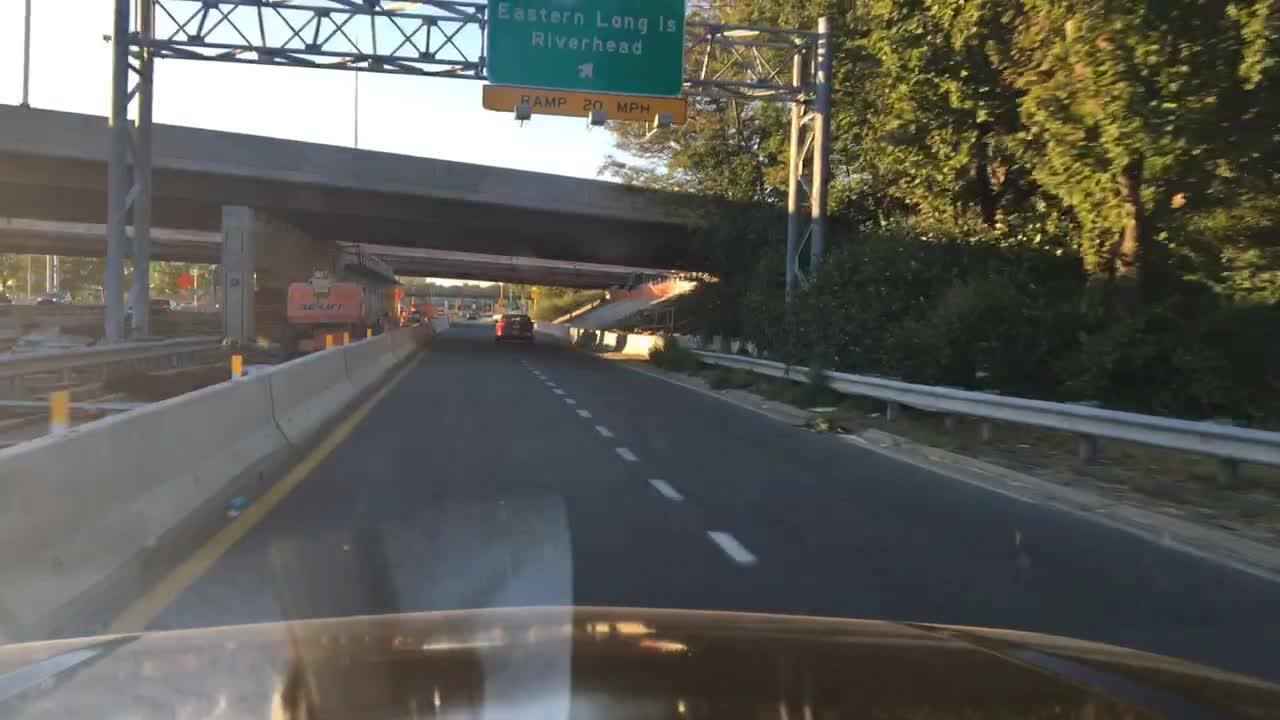car: (491, 311, 539, 345), (149, 296, 177, 309), (406, 308, 425, 323), (37, 293, 62, 303), (466, 310, 479, 320)
traffic sign: (486, 0, 687, 94), (482, 84, 688, 123), (173, 272, 192, 286)
